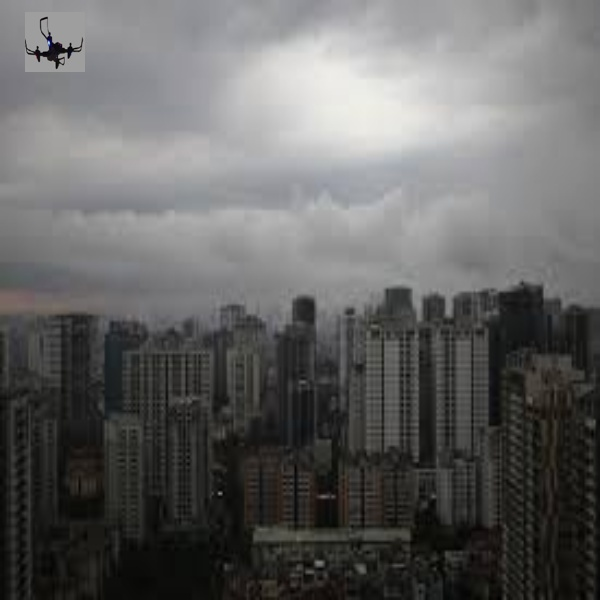drone: (24, 11, 85, 73)
